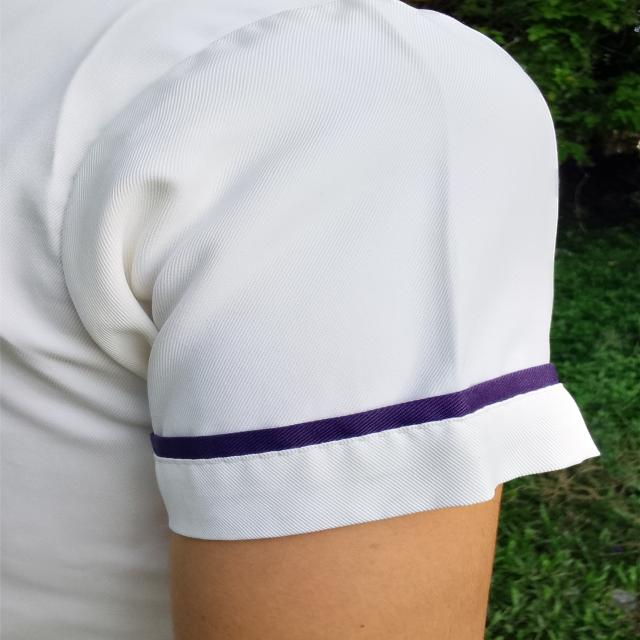education_female_uniform: (0, 2, 613, 575)
